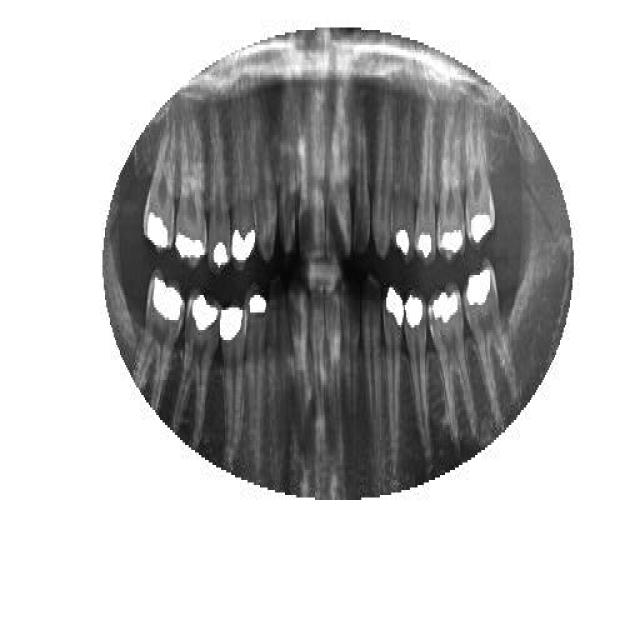Fillings: (465, 263, 520, 425), (428, 282, 478, 450), (172, 290, 218, 452), (134, 270, 180, 410), (404, 287, 431, 475), (142, 118, 178, 252), (176, 115, 206, 265), (464, 103, 495, 245), (229, 112, 256, 268), (437, 115, 465, 260), (206, 112, 232, 268), (220, 295, 242, 463), (414, 108, 436, 260), (392, 110, 413, 268), (246, 288, 265, 420), (384, 282, 401, 410)
